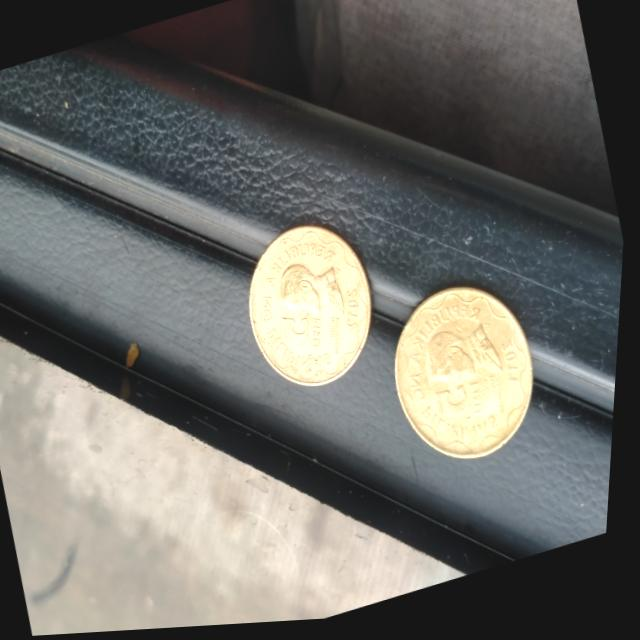5_Old_Front: (423, 370, 508, 457), (268, 301, 337, 366)
